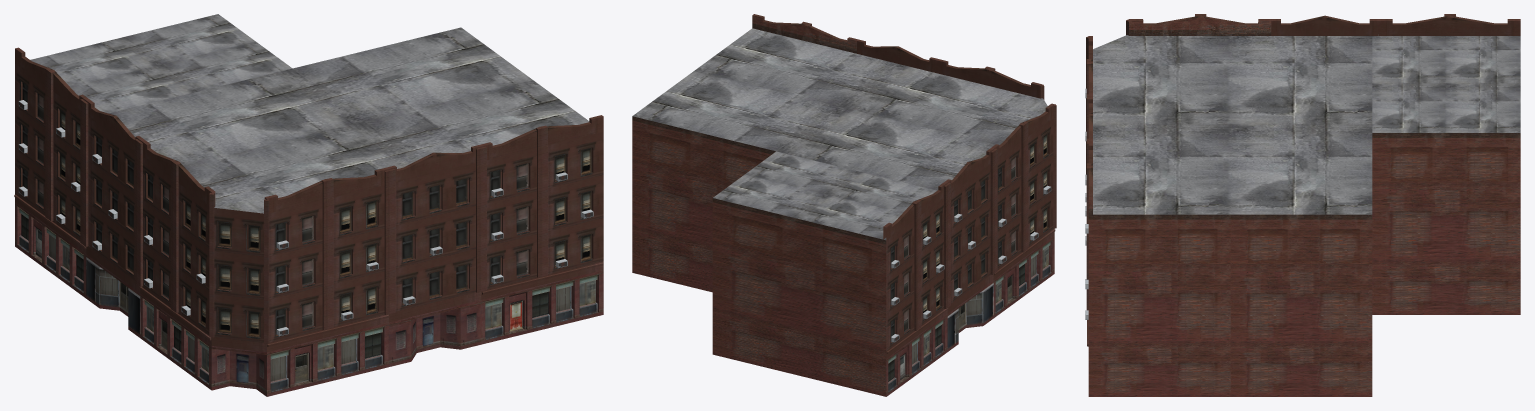
File: corner_block_lod.glb
3 views of the same model, side by side, from view 1: azimuth 30°, elevation 25°; view 2: azimuth 150°, elevation 25°; view 3: azimuth 270°, elevation 25° (orthographic). The views are drawn at different scales.
Visible parts, largest first — view 1: Brownstone_Lowrise_1_B_Brownstone_Facade_Flr_3_0, Brownstone_Lowrise_1_B_Brownstone_Facade_FLR_7_0; view 2: Brownstone_Lowrise_1_B_Brownstone_Facade_Flr_3_0, Brownstone_Lowrise_1_B_Brownstone_Facade_FLR_7_0; view 3: Brownstone_Lowrise_1_B_Brownstone_Facade_Flr_3_0.
Part boxes in pixels (x1,y1,x2,y2): Brownstone_Lowrise_1_B_Brownstone_Facade_Flr_3_0: (14, 14, 603, 352); Brownstone_Lowrise_1_B_Brownstone_Facade_FLR_7_0: (15, 100, 603, 396); Brownstone_Lowrise_1_B_Brownstone_Facade_Flr_3_0: (632, 14, 1056, 396); Brownstone_Lowrise_1_B_Brownstone_Facade_FLR_7_0: (886, 185, 1054, 396); Brownstone_Lowrise_1_B_Brownstone_Facade_Flr_3_0: (1086, 14, 1520, 396).
Size of the model in its own units: 32.96 by 17 by 33.32.
2 materials, 2 textured.
